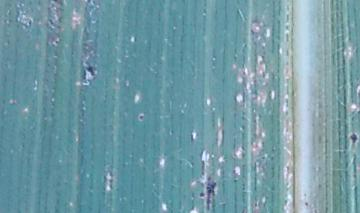tarspot: (204, 174, 217, 213), (348, 131, 360, 145), (85, 65, 96, 77), (198, 191, 206, 198), (138, 114, 144, 122), (303, 201, 309, 207)
